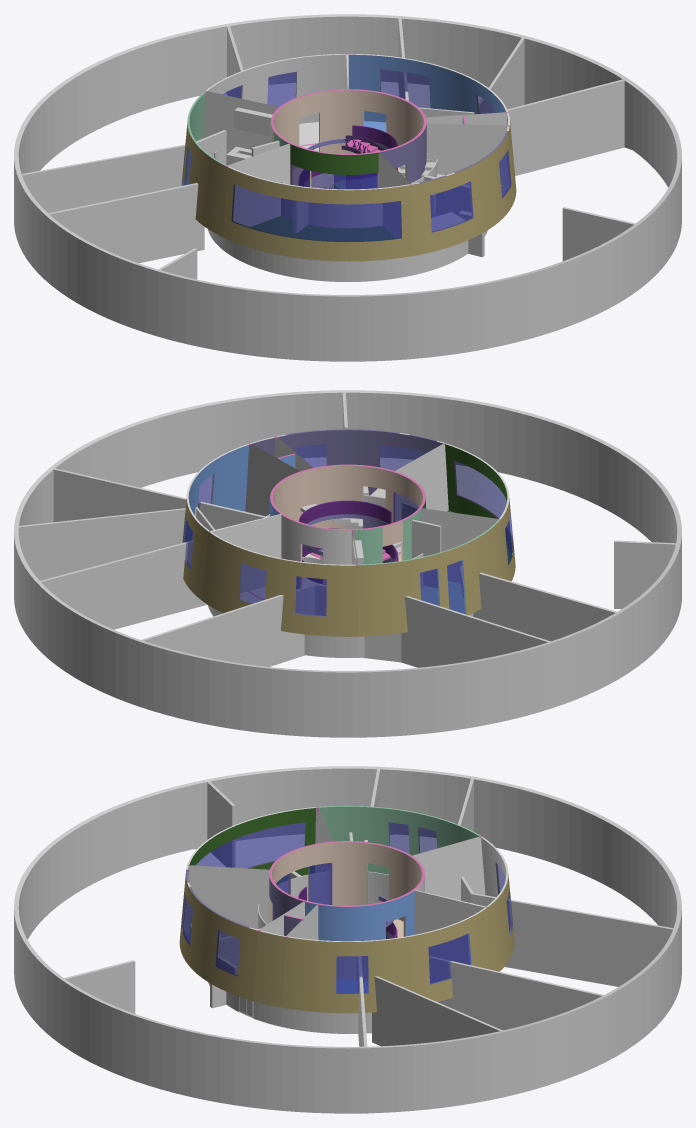
File: golden.egg.fbx
3 renders of one model, top to bottom at view 1: azimuth 30°, elevation 25°; view 2: azimuth 150°, elevation 25°; view 3: azimuth 270°, elevation 25°, orthographic.
Parts seen in each view (by area): view 1: Cylinder, timry floor, outer wall, big.Staircase, staircase.001, Cube.007, staircase; view 2: Cylinder, timry floor, staircase.001, outer wall, Cube.004; view 3: Cylinder, timry floor, outer wall, big.Staircase.
Part boxes in pixels (bbox=[...]): Cylinder: bbox=[14, 14, 681, 361]; timry floor: bbox=[181, 54, 516, 261]; outer wall: bbox=[208, 229, 487, 281]; big.Staircase: bbox=[281, 159, 484, 256]; staircase.001: bbox=[307, 125, 397, 188]; Cube.007: bbox=[234, 107, 272, 136]; staircase: bbox=[300, 169, 345, 188]; Cylinder: bbox=[14, 390, 681, 737]; timry floor: bbox=[182, 429, 515, 636]; staircase.001: bbox=[299, 500, 391, 560]; outer wall: bbox=[208, 605, 473, 657]; Cube.004: bbox=[412, 519, 441, 587]; Cylinder: bbox=[14, 766, 681, 1113]; timry floor: bbox=[179, 805, 514, 1013]; outer wall: bbox=[208, 982, 371, 1033]; big.Staircase: bbox=[210, 871, 388, 1007].
Bounding box in the file's own units: 4784 × 804 × 4784.
